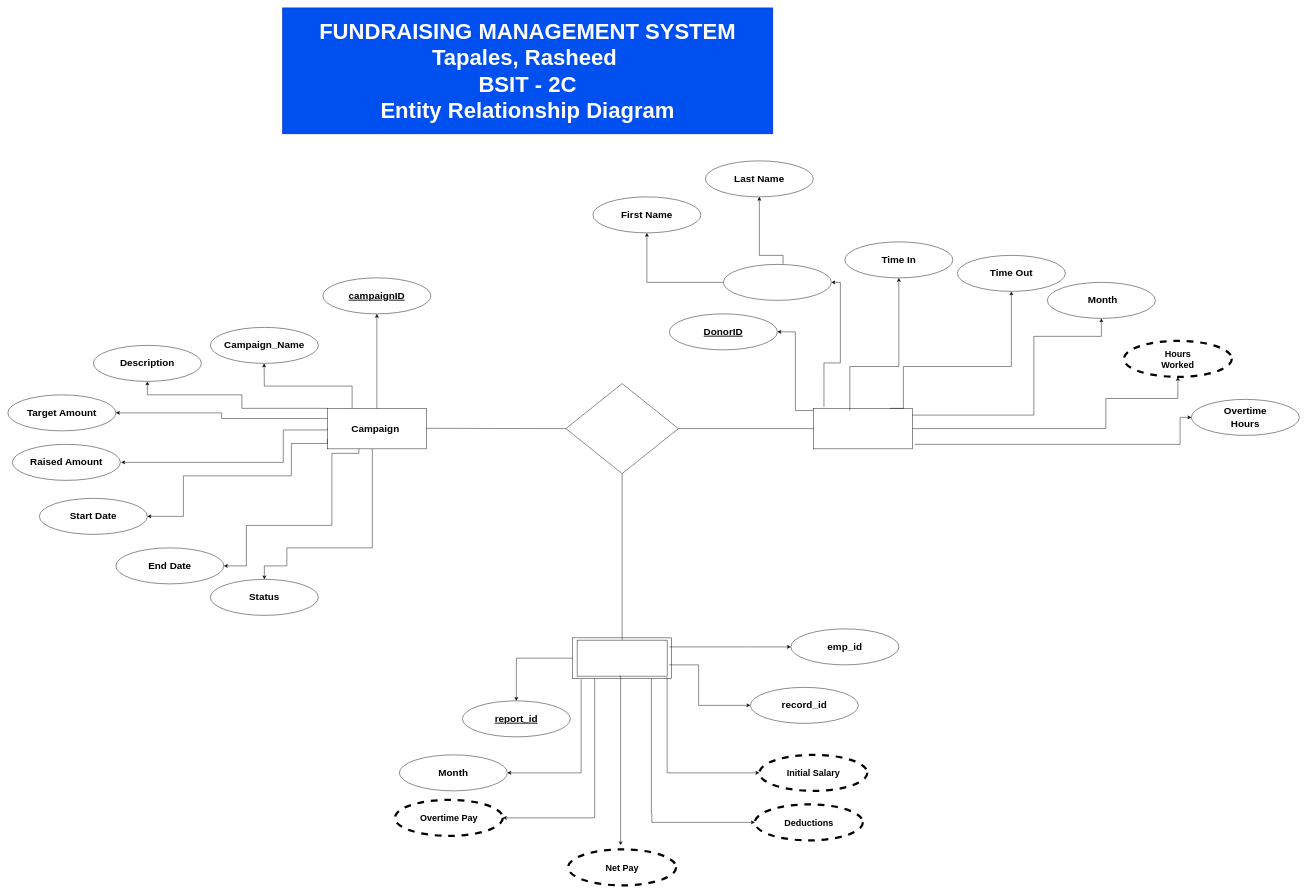
The diagram is 1307 pixels wide and 894 high, and some of its shapes have lost their labels. The shapes that lost their labels are listed below. From the top down, each one's box as (x1, y1, x2, y2) in pixels, then its label:
(723, 264, 831, 300): DonorName
(565, 383, 678, 474): Relationship
(813, 408, 912, 449): DONORS
(572, 637, 672, 678): EMPLOYEE
(577, 640, 667, 676): REPORTS
